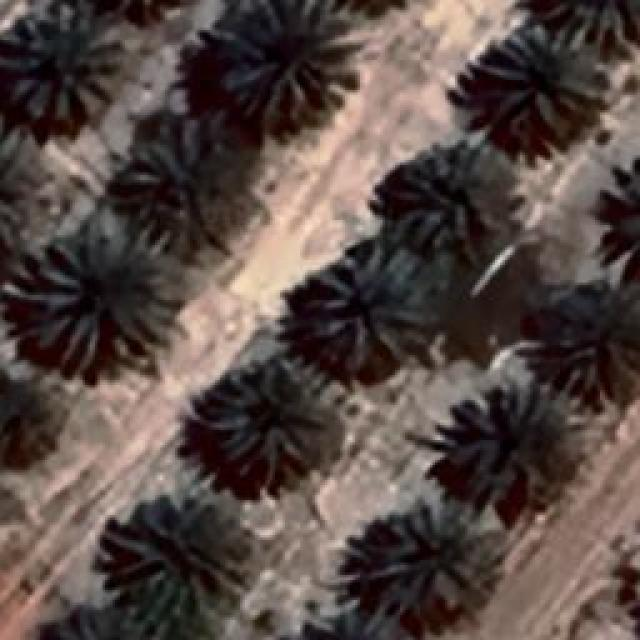PalmTree: (20, 218, 185, 372), (188, 355, 322, 490), (215, 0, 358, 125), (100, 500, 242, 618), (370, 495, 490, 623), (2, 4, 122, 128), (312, 240, 430, 365), (385, 134, 510, 248), (452, 380, 568, 498), (475, 22, 603, 128), (138, 127, 252, 240), (552, 288, 638, 400), (519, 0, 640, 61), (0, 375, 75, 473), (594, 146, 640, 288), (0, 130, 46, 272), (41, 603, 212, 640), (277, 603, 448, 640), (84, 0, 202, 28)
